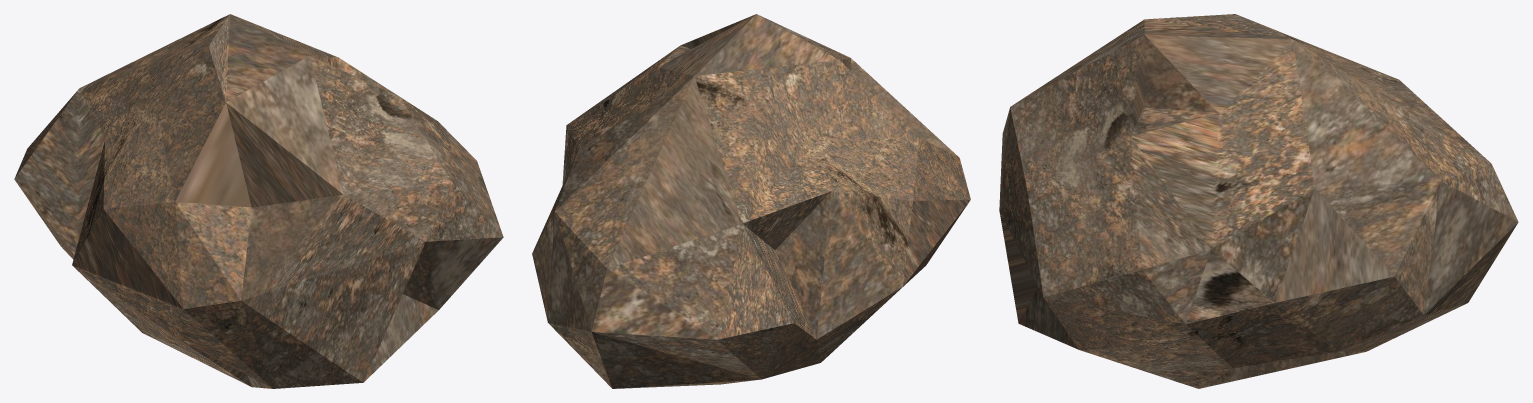
The model's file is asteroid_01_low.glb.
The picture shows the model from 3 angles, left to right: view 1: azimuth 30°, elevation 25°; view 2: azimuth 150°, elevation 25°; view 3: azimuth 270°, elevation 25°; orthographic projection. The views are drawn at different scales.
Parts seen in each view (by area): view 1: asteroide-base.002; view 2: asteroide-base.002; view 3: asteroide-base.002.
Part boxes in pixels (x1,y1,x2,y2): asteroide-base.002: (14,14,503,388); asteroide-base.002: (532,14,970,388); asteroide-base.002: (999,14,1518,388).
Size of the model in its own units: 3.5 by 3.09 by 4.12.
1 material, 1 textured.
